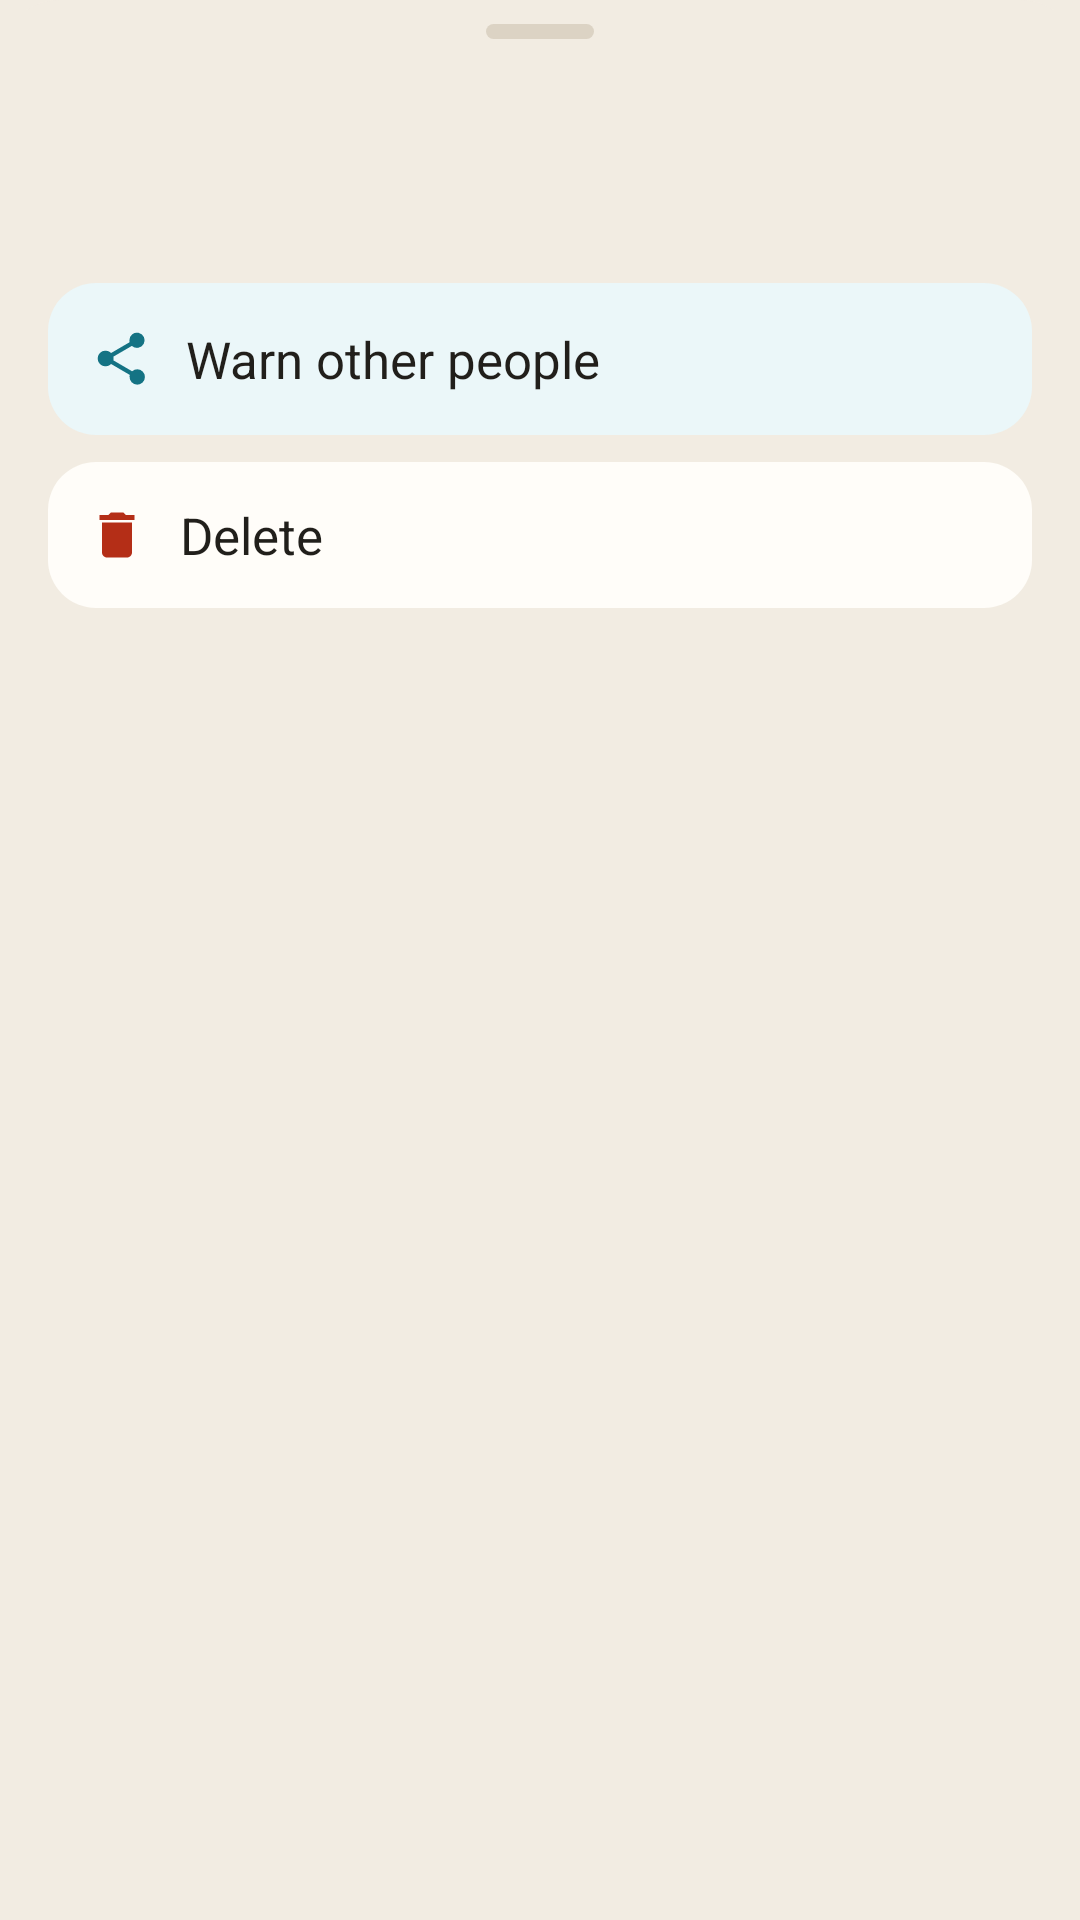

Where to tap for icons on this 1080px x 1920px app screen, as point (x, y):
share: point (121, 358)
trash: point (117, 535)
